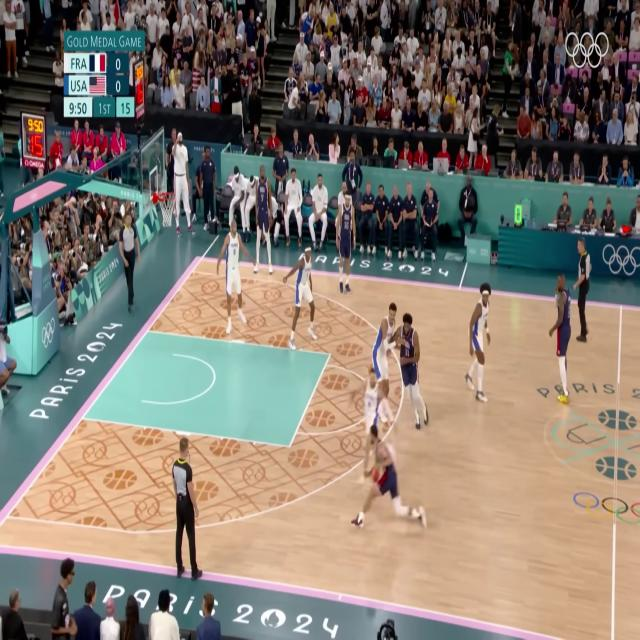ball-handler: (350, 425, 430, 541)
player: (395, 311, 439, 434), (212, 214, 257, 332), (282, 238, 319, 351), (351, 356, 386, 471), (464, 278, 493, 410), (367, 289, 399, 405), (549, 264, 573, 412), (252, 162, 275, 280), (334, 191, 358, 302)
